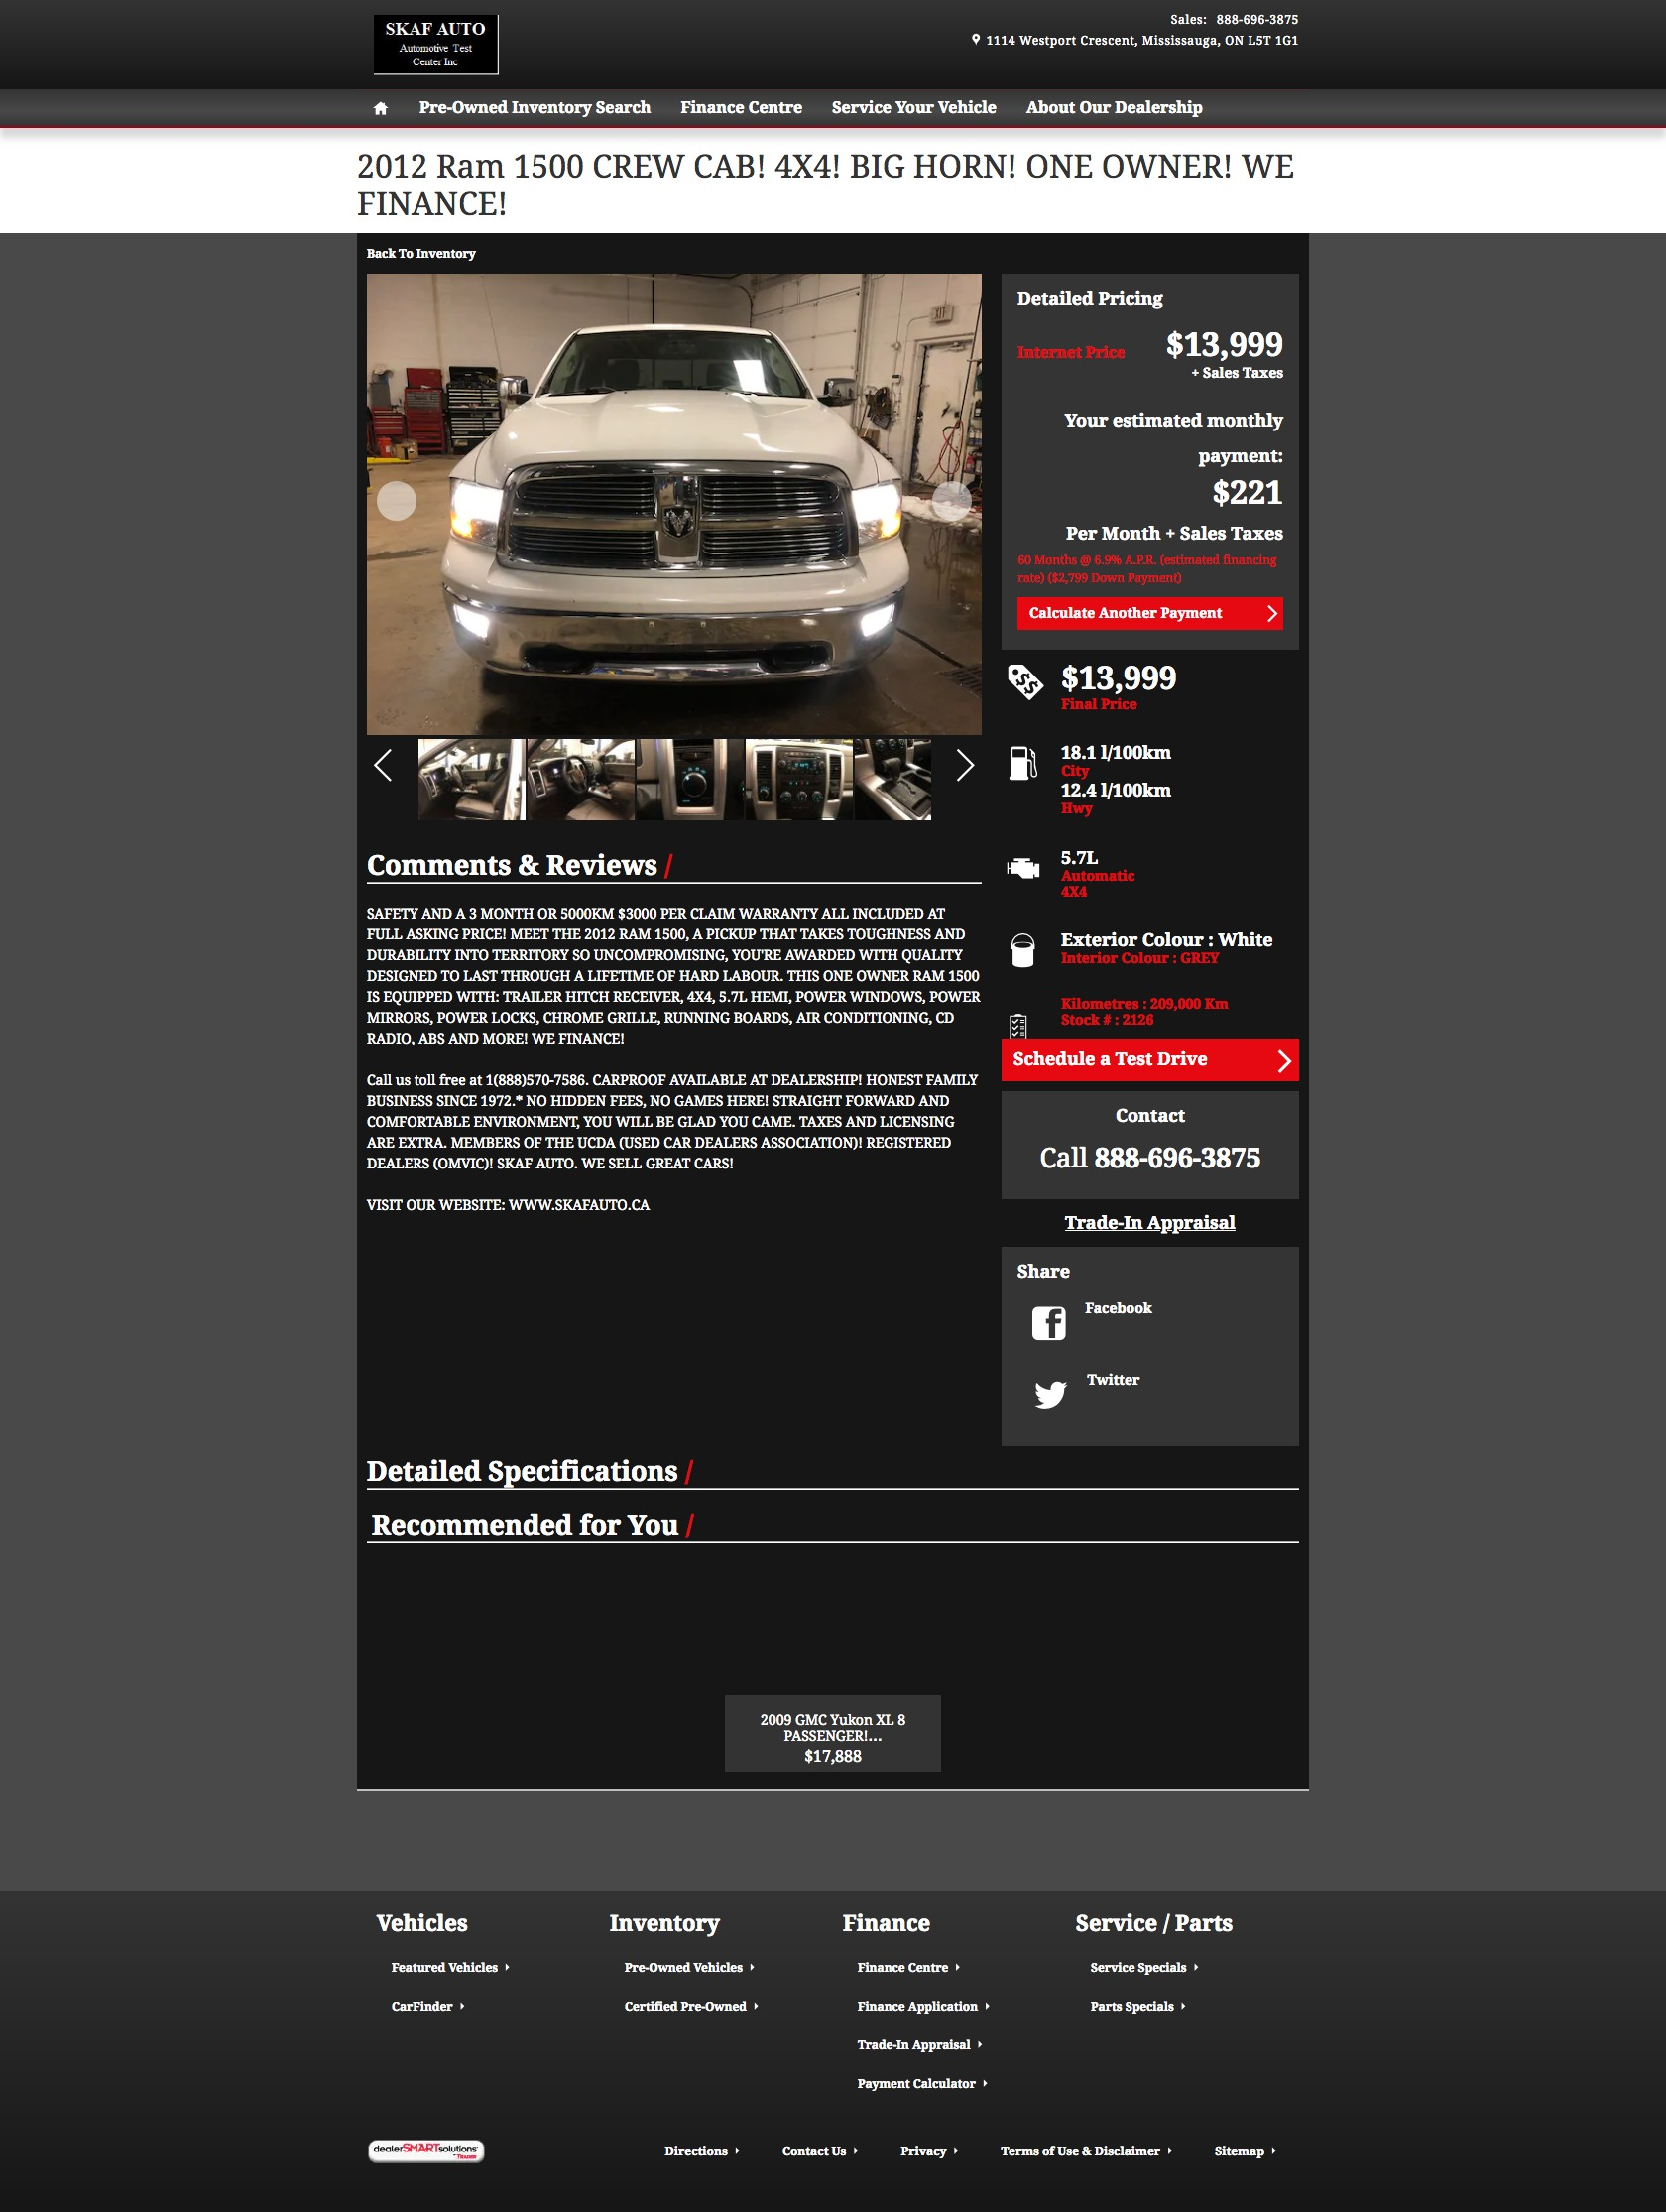car: (955, 747, 976, 784)
